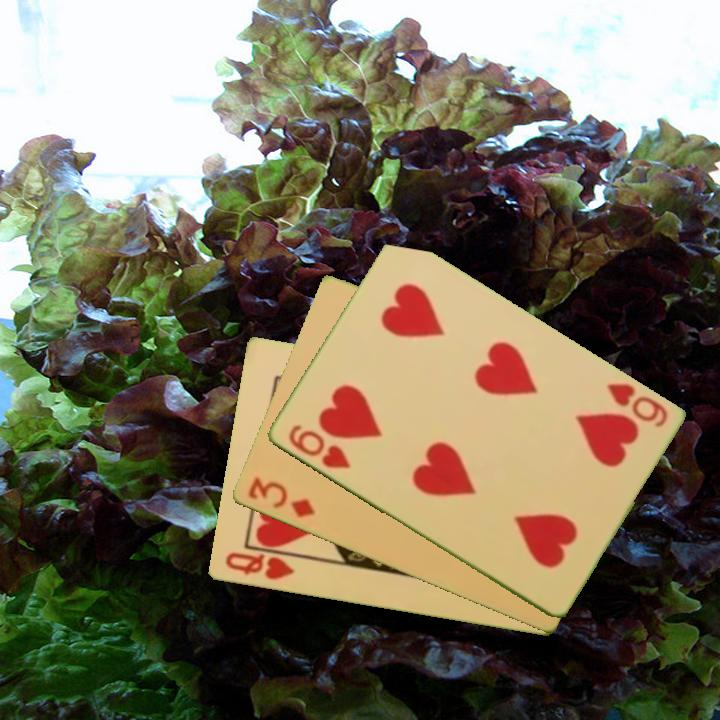3d: (244, 473, 318, 521)
6h: (602, 379, 671, 431), (284, 421, 353, 472)
Qh: (221, 549, 297, 583)
